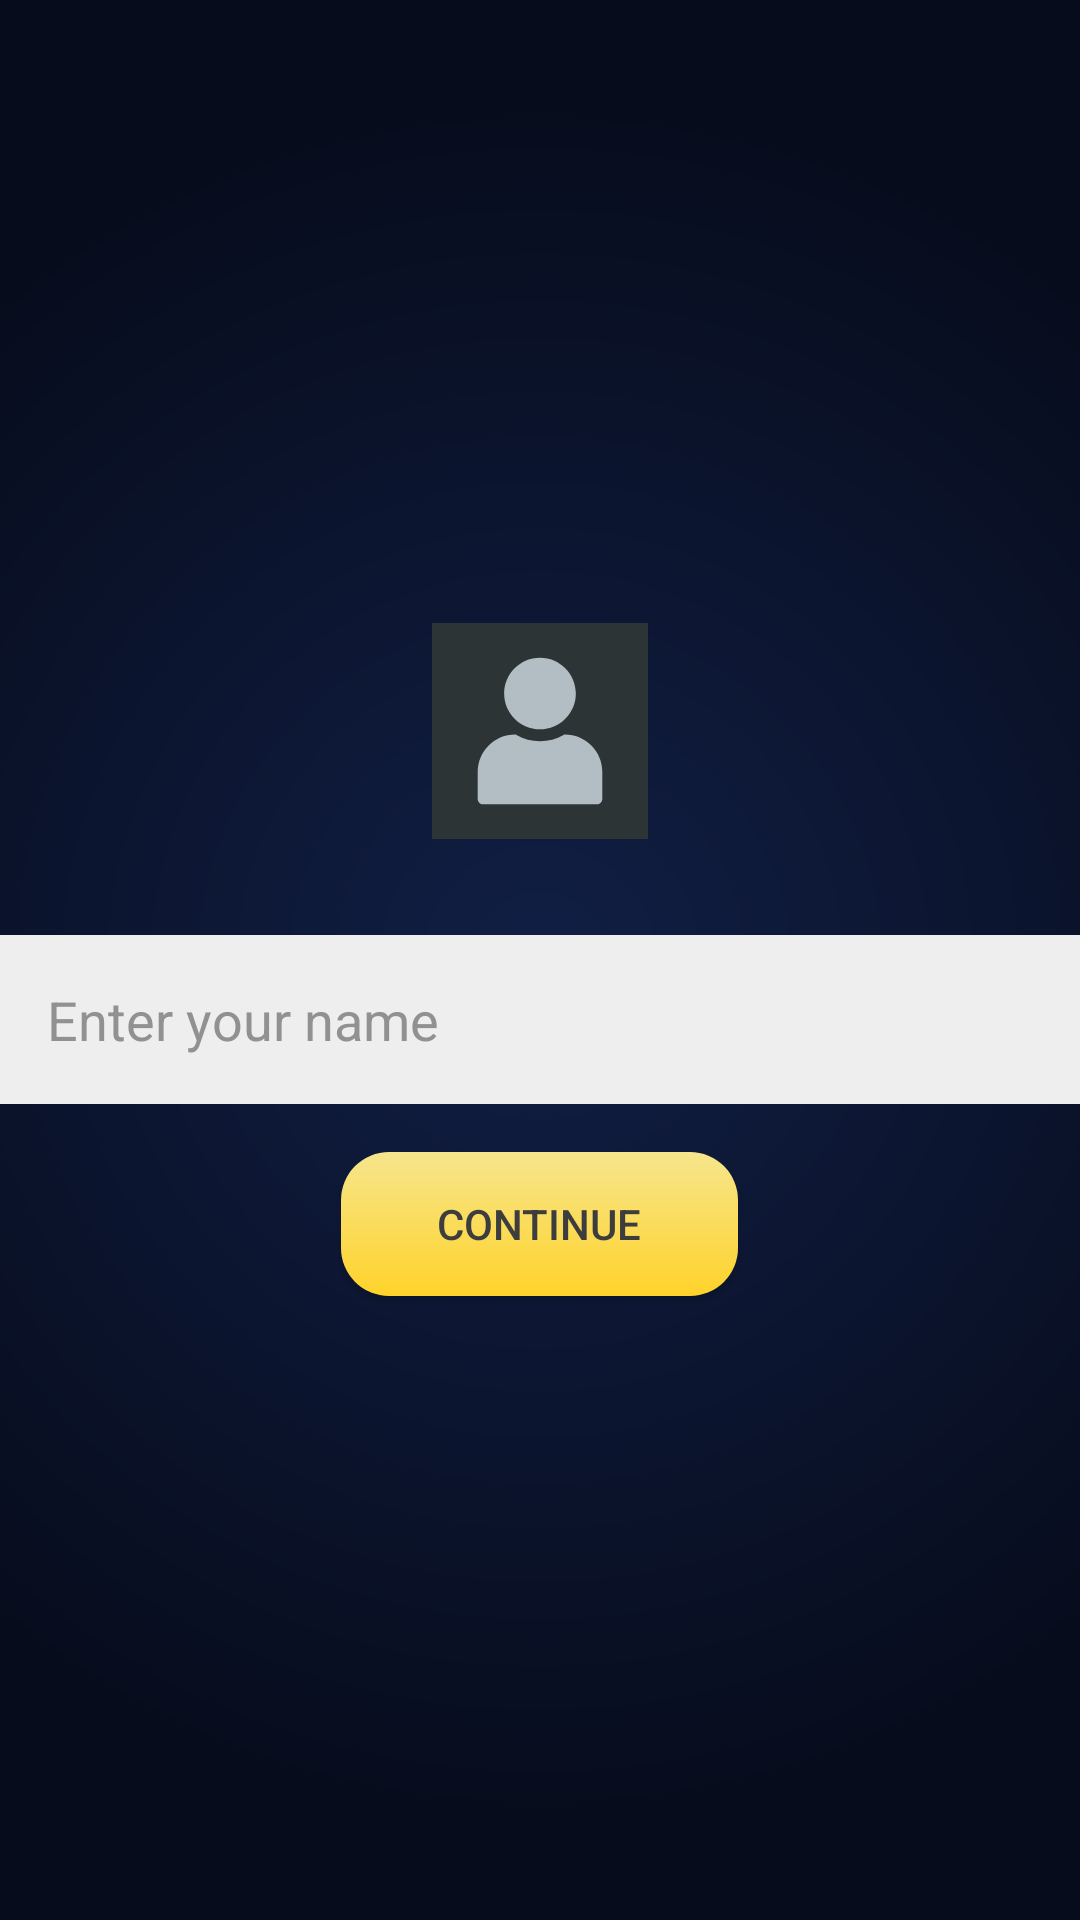

Screen size 1080px×1920px. Icon name, then its center in pixels as (x=x, y=y):
user: (x=540, y=731)
